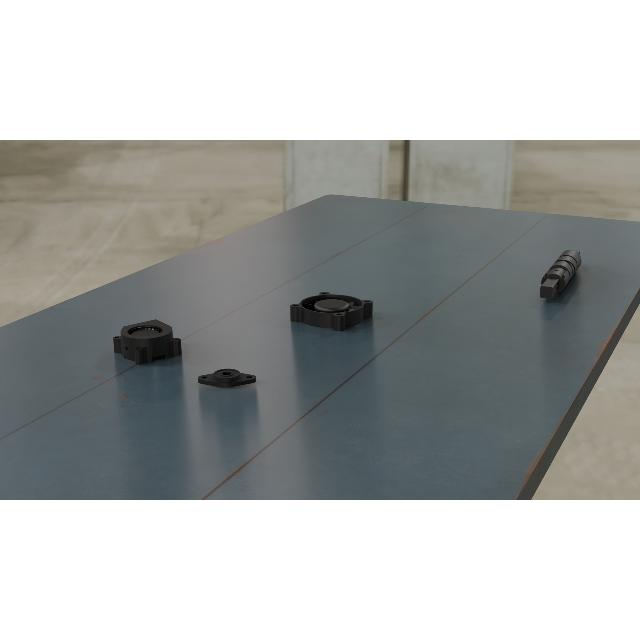Pieza1: (534, 244, 586, 306)
Pieza2: (196, 368, 256, 388)
Pieza3: (110, 319, 186, 367)
Pieza4: (286, 291, 376, 333)
